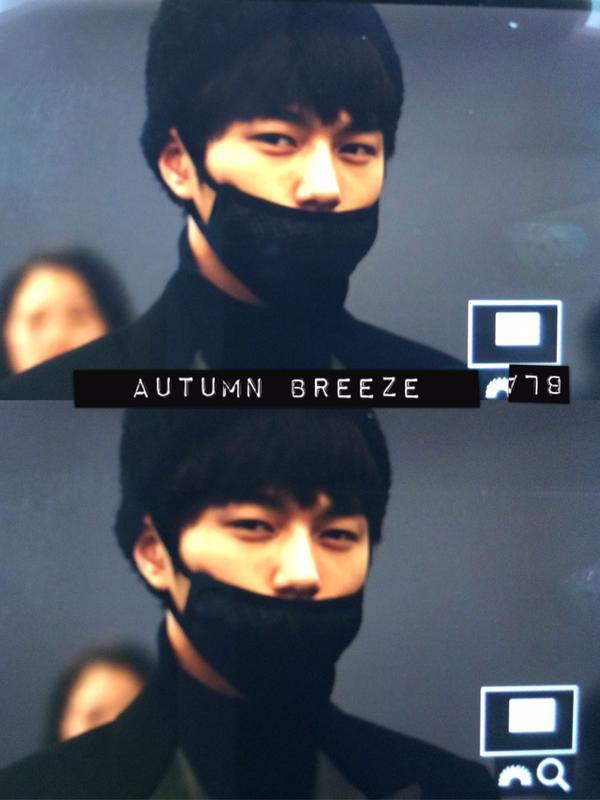WRONG: (172, 473, 368, 704), (208, 84, 384, 305)
